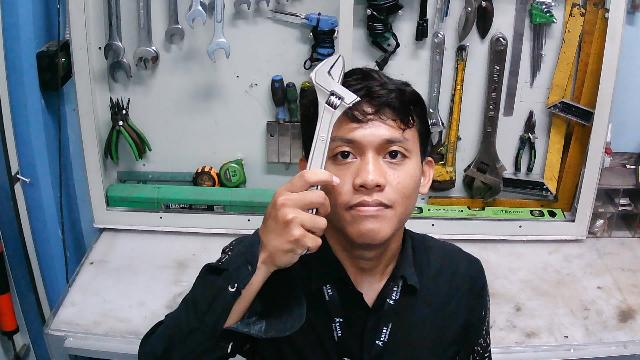kunci_inggris: (300, 51, 360, 248)
